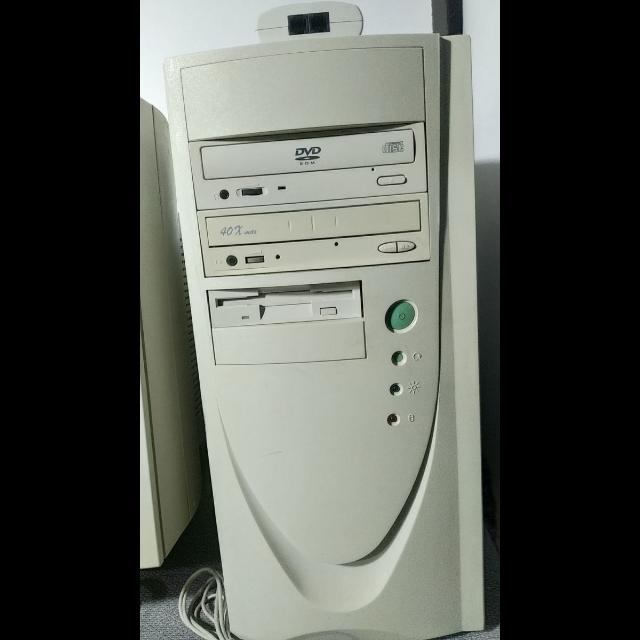Desktop-PC: (168, 34, 482, 640)
